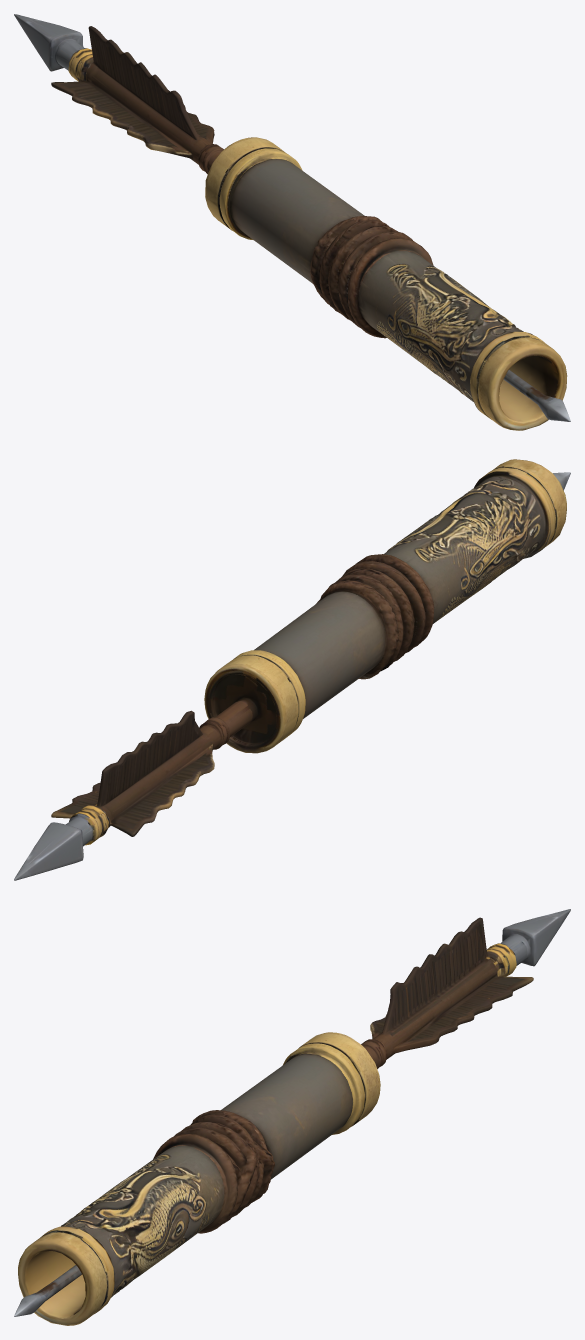
File: xiujian.glb
The picture shows the model from 3 angles, top to bottom: view 1: azimuth 30°, elevation 25°; view 2: azimuth 150°, elevation 25°; view 3: azimuth 330°, elevation 25°; orthographic projection.
Parts seen in each view (by area): view 1: convert; view 2: convert; view 3: convert.
Part boxes in pixels (box(x1,y1,x2,y2)): convert: box(14, 14, 570, 430); convert: box(14, 459, 570, 880); convert: box(14, 909, 570, 1325).
Bounding box in the file's own units: 0.11 × 0.1162 × 1.2.
1 material, 1 textured.
